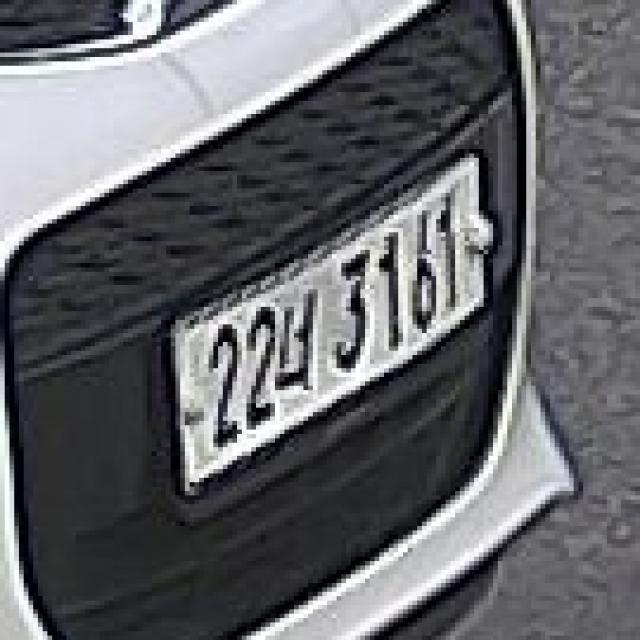1: (438, 181, 470, 316), (379, 218, 411, 352)
2: (199, 318, 247, 459), (244, 293, 282, 430)
3: (330, 235, 382, 383)
6: (408, 201, 444, 339)
license_plate: (180, 158, 488, 489)
neo: (289, 278, 324, 397)
